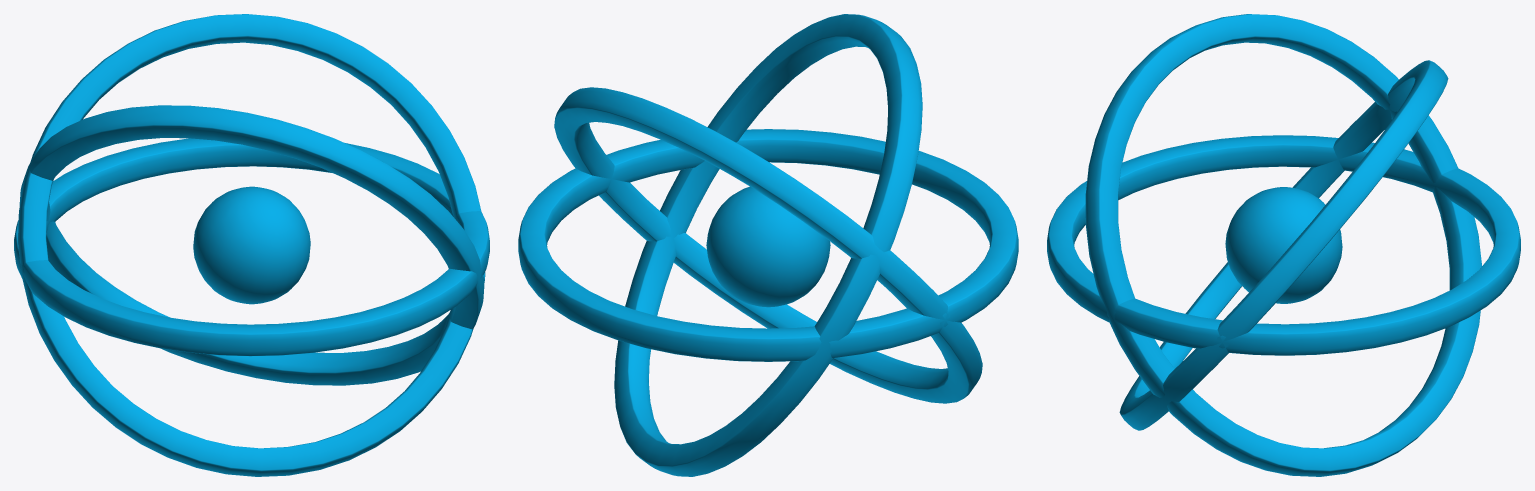
File: react.glb
The picture shows the model from 3 angles, left to right: view 1: azimuth 30°, elevation 25°; view 2: azimuth 150°, elevation 25°; view 3: azimuth 270°, elevation 25°; orthographic projection. The views are drawn at different scales.
Parts seen in each view (by area): view 1: React; view 2: React; view 3: React.
Part boxes in pixels (x1,y1,x2,y2): React: (14, 14, 489, 476); React: (518, 14, 1018, 476); React: (1047, 14, 1520, 476).
Bounding box in the file's own units: 0.2127 × 0.1829 × 0.2127.
